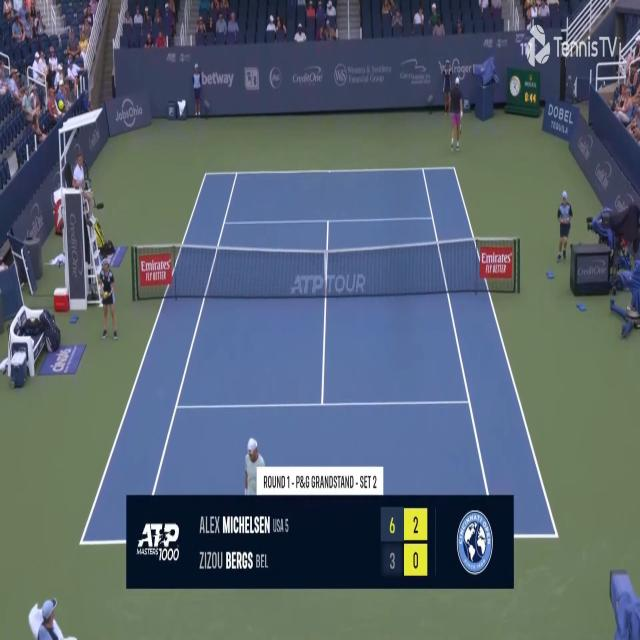tennis-player: (444, 74, 477, 154), (242, 435, 268, 497)
